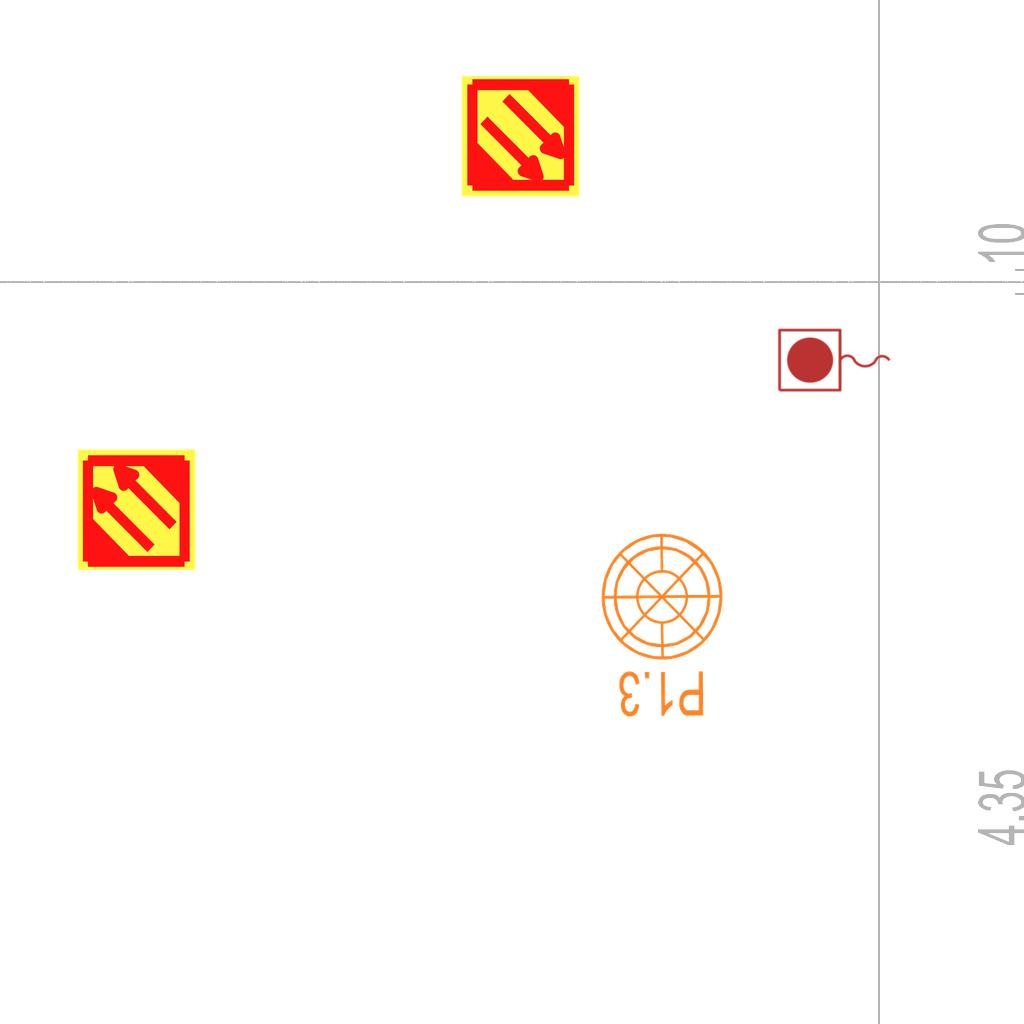ASR_Ansaugrauchmelder: (74, 447, 199, 572), (458, 74, 583, 199)
Aufbaurundleuchte_LED_Treppenhaus: (587, 530, 726, 735)
Zugtaster: (774, 325, 896, 397)
